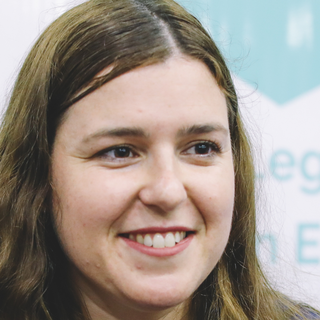eye: (91, 140, 144, 165), (178, 136, 223, 163)
